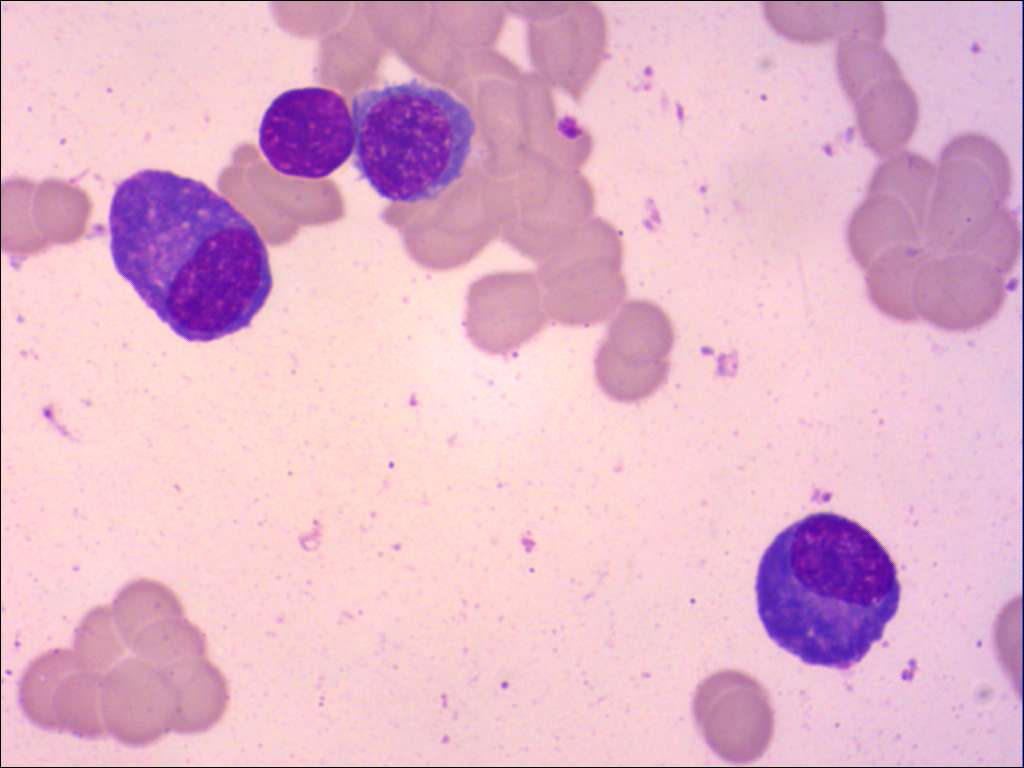22: (349, 75, 479, 207)
51: (104, 164, 276, 348), (752, 509, 904, 672)
x: (256, 83, 359, 183)
